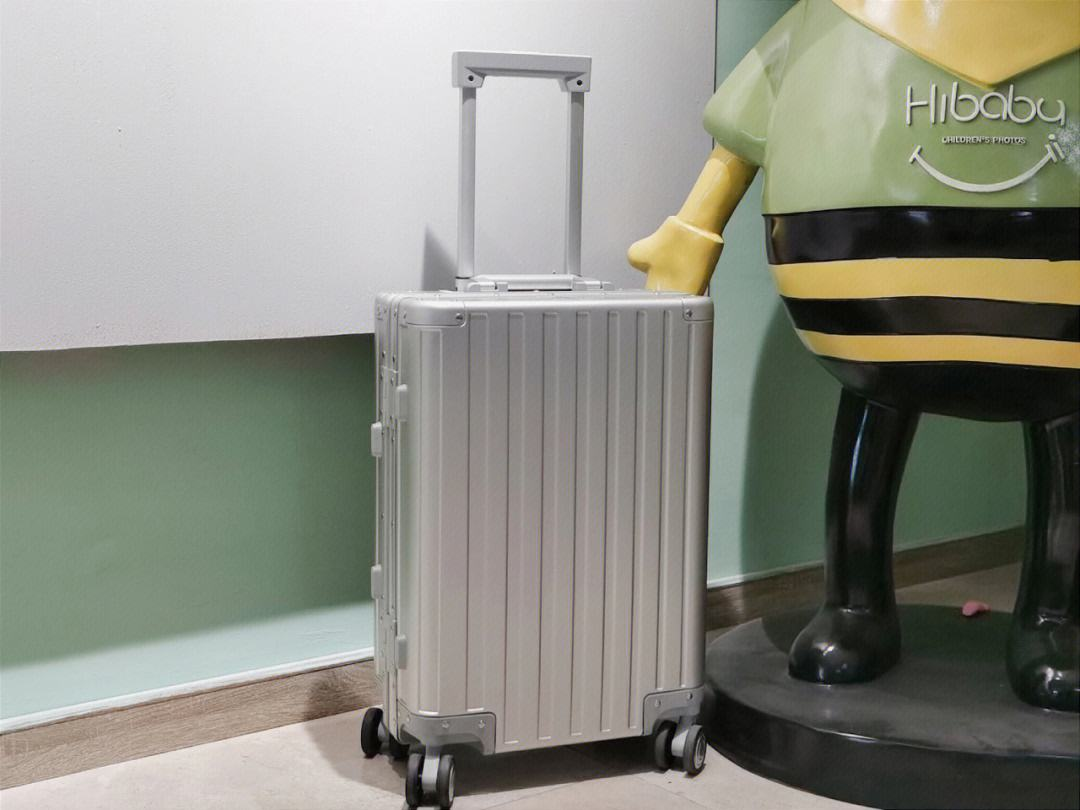box: (374, 291, 715, 759)
handle: (461, 274, 616, 293)
wheel: (652, 718, 707, 775), (405, 752, 457, 810), (360, 707, 411, 759)
